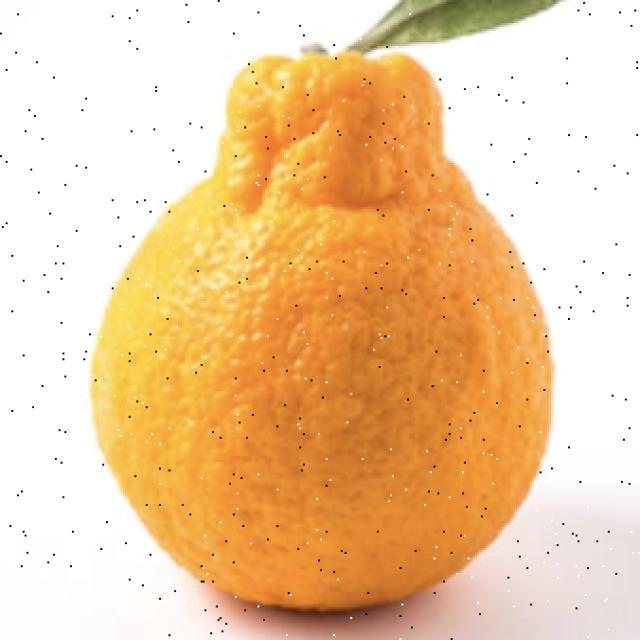Orange: (89, 47, 555, 613)
